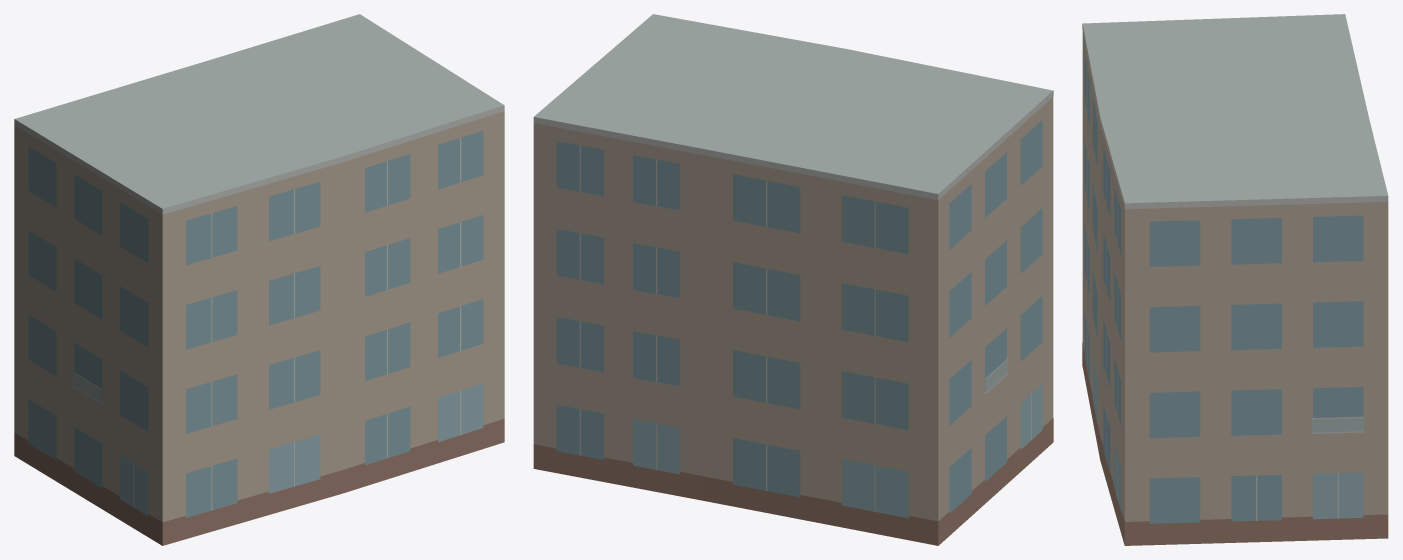
The model's file is survey-upis-32750117.glb.
The picture shows the model from 3 angles, left to right: view 1: azimuth 30°, elevation 25°; view 2: azimuth 150°, elevation 25°; view 3: azimuth 270°, elevation 25°; orthographic projection. The views are drawn at different scales.
Parts seen in each view (by area): view 1: survey-upis-32750117.tmp; view 2: survey-upis-32750117.tmp; view 3: survey-upis-32750117.tmp.
Part boxes in pixels (x1,y1,x2,y2): survey-upis-32750117.tmp: (14, 14, 504, 545); survey-upis-32750117.tmp: (533, 14, 1053, 545); survey-upis-32750117.tmp: (1082, 14, 1388, 545).
Size of the model in its own units: 16.6 by 14 by 11.34.
